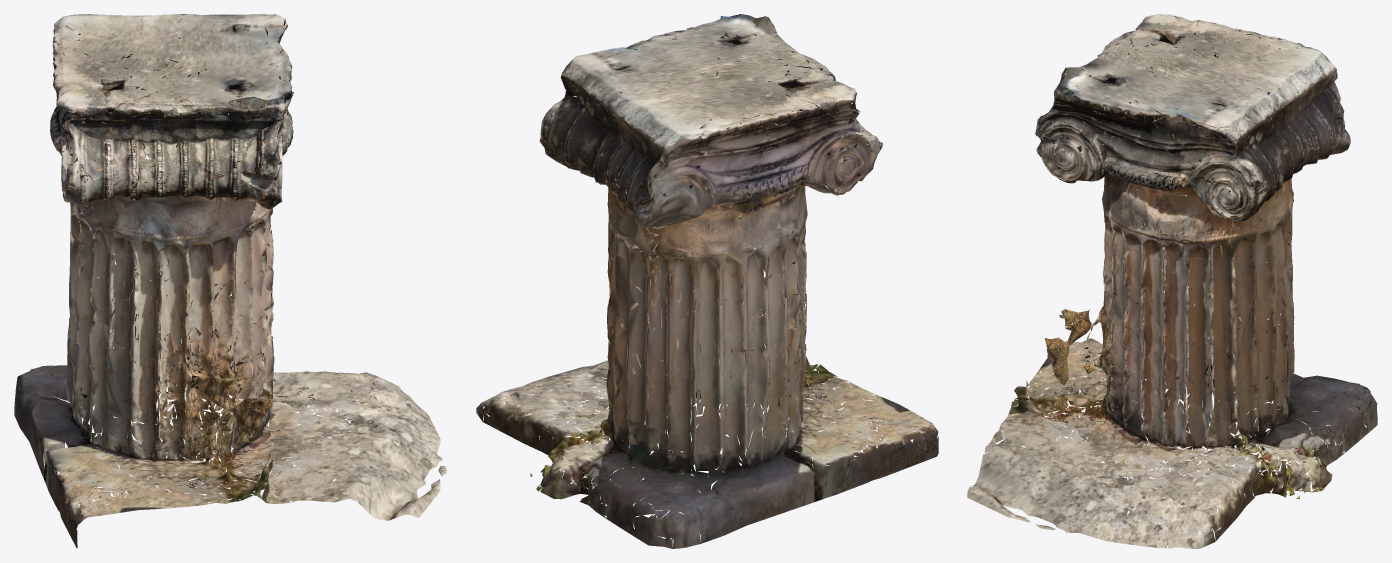
Rendered from coluna_jonica.glb.
3 renders of one model, left to right at view 1: azimuth 30°, elevation 25°; view 2: azimuth 150°, elevation 25°; view 3: azimuth 270°, elevation 25°, orthographic. The views are drawn at different scales.
Visible parts, largest first — view 1: Object_8, Object_4, Object_6, Object_7, Object_9, Object_5, Object_3, Object_2; view 2: Object_6, Object_4, Object_8, Object_7, Object_2, Object_3, Object_5, Object_9; view 3: Object_8, Object_6, Object_3, Object_9, Object_7, Object_5, Object_2, Object_4.
Part boxes in pixels (x1,y1,x2,y2): Object_8: (15, 14, 447, 520); Object_4: (14, 14, 410, 538); Object_6: (14, 14, 438, 548); Object_7: (30, 18, 422, 506); Object_9: (54, 14, 388, 494); Object_5: (52, 22, 369, 506); Object_3: (24, 14, 348, 495); Object_2: (43, 25, 375, 523); Object_6: (480, 26, 938, 543); Object_4: (483, 66, 938, 548); Object_8: (517, 16, 862, 548); Object_7: (476, 15, 882, 519); Object_2: (530, 14, 916, 501); Object_3: (540, 26, 882, 512); Object_5: (484, 14, 892, 545); Object_9: (544, 16, 867, 465); Object_8: (967, 24, 1374, 541); Object_6: (984, 14, 1360, 548); Object_3: (1014, 19, 1360, 496); Object_9: (997, 35, 1346, 486); Object_7: (1014, 14, 1372, 548); Object_5: (1028, 33, 1377, 531); Object_2: (1015, 20, 1346, 499); Object_4: (968, 39, 1377, 541).
Bounding box in the file's own units: 2.19 × 2.12 × 2.09.
2 materials, 2 textured.
